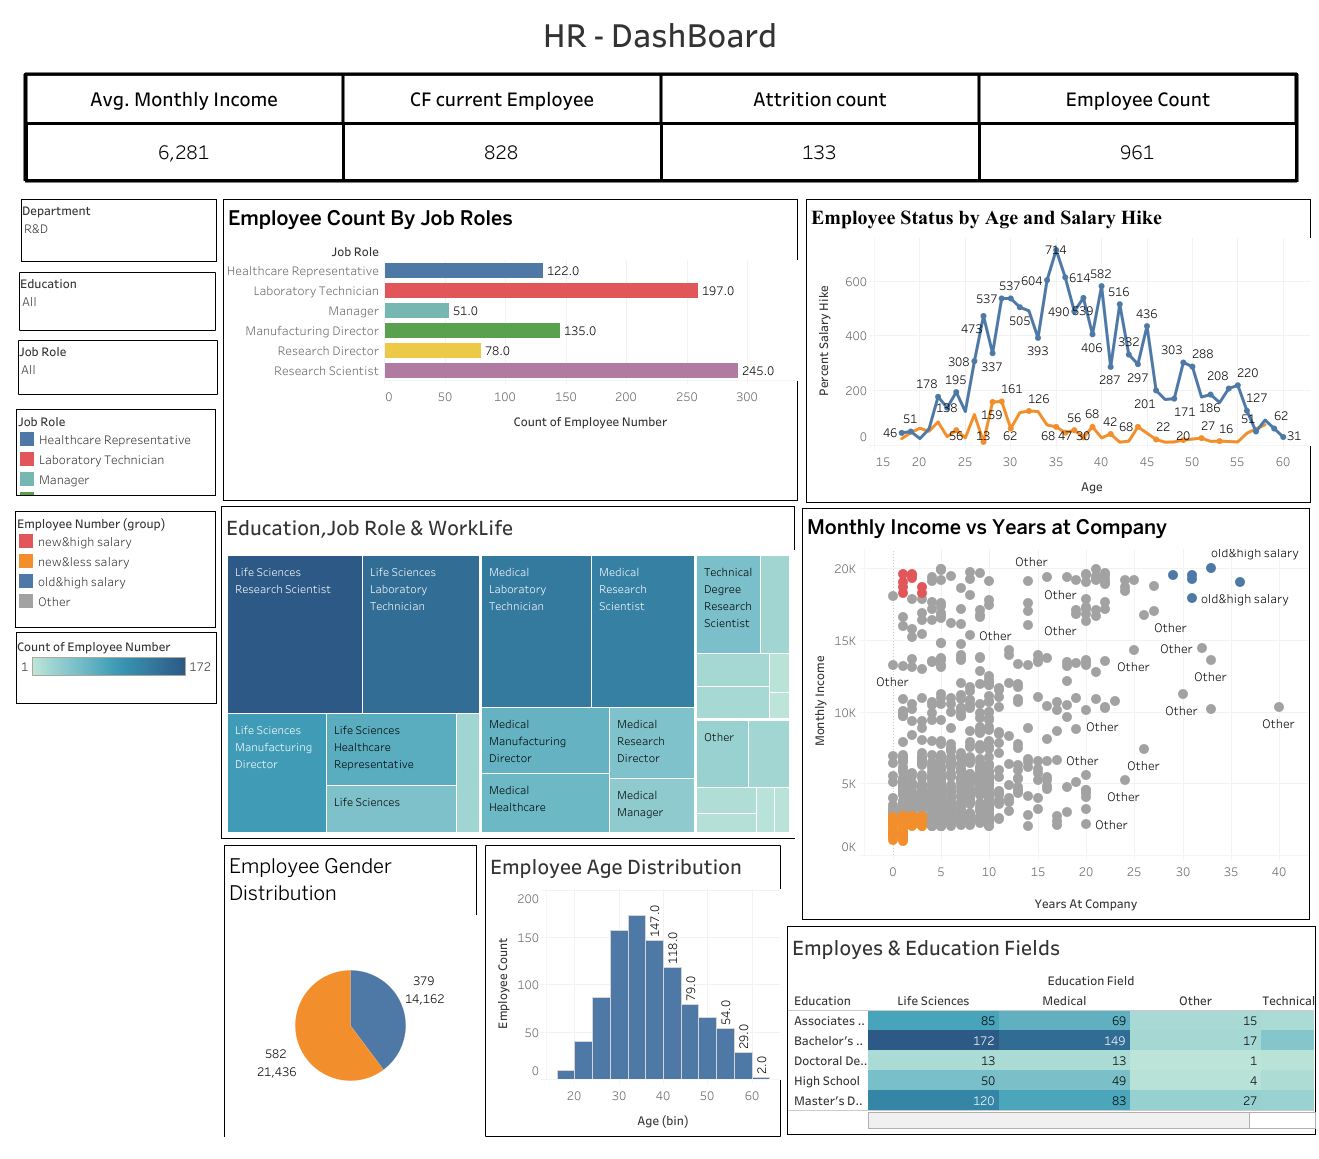

The dashboard page shown, as its layout file describes it:
{"tool":"tableau","page":{"name":"HR Dashboarf","canvas":[1320,1160],"ordinal":1},"visuals":[{"type":"title","box":[8,8,1304,63]},{"type":"worksheet","title":"Sheet 2","mark":"Automatic","rows":["Job Role"],"cols":["Employee Number"],"box":[223,199,575,302]},{"type":"worksheet","title":"Sheet 3","mark":"Line","rows":["Percent Salary Hike"],"cols":["Age"],"box":[806,199,505,304]},{"type":"filter","title":"Sheet 2","param":"[federated.0exvgdn0q3nj2n19w718709zt0zk].[none:Department:nk]","box":[15,240,196,63]},{"type":"filter","title":"Sheet 2","param":"[federated.0exvgdn0q3nj2n19w718709zt0zk].[none:Education:nk]","box":[16,310,197,59]},{"type":"filter","title":"Sheet 2","param":"[federated.0exvgdn0q3nj2n19w718709zt0zk].[none:Job Role:nk]","box":[15,375,200,55]},{"type":"legend","title":"Sheet 2","param":"[federated.0exvgdn0q3nj2n19w718709zt0zk].[none:Job Role:nk]","box":[15,437,200,87]},{"type":"worksheet","title":"Sheet 5","mark":"Automatic","box":[221,506,574,333]},{"type":"worksheet","title":"Sheet 4","mark":"Circle","rows":["Monthly Income"],"cols":["Years At Company"],"box":[802,508,508,412]},{"type":"legend","title":"Sheet 4","param":"[federated.0exvgdn0q3nj2n19w718709zt0zk].[Employee Number (group)]","box":[15,532,201,117]},{"type":"legend","title":"Sheet 6","param":"[federated.0exvgdn0q3nj2n19w718709zt0zk].[cnt:Employee Number:qk]","box":[15,655,201,72]},{"type":"worksheet","title":"Sheet 1","mark":"Pie","box":[224,845,253,272]},{"type":"worksheet","title":"Sheet 8","mark":"Automatic","rows":["Employee Count"],"cols":["Age (bin)"],"box":[485,845,296,276]},{"type":"worksheet","title":"Sheet 6","mark":"Square","rows":["Education"],"cols":["Education Field"],"box":[787,926,529,209]}]}

Visuals, with their boxes in screenshot pixels (x1, y1, x2, y2), scaled from the page's 1320x1160 canvas onto the 1319x1159 screenshot:
title: crop(8, 8, 1311, 71)
"Sheet 2" worksheet: crop(223, 199, 797, 501)
"Sheet 3" worksheet (Line marks): crop(805, 199, 1310, 503)
"Sheet 2" filter: crop(15, 240, 211, 303)
"Sheet 2" filter: crop(16, 310, 213, 369)
"Sheet 2" filter: crop(15, 375, 215, 430)
"Sheet 2" legend: crop(15, 437, 215, 524)
"Sheet 5" worksheet: crop(221, 506, 794, 838)
"Sheet 4" worksheet (Circle marks): crop(801, 508, 1309, 919)
"Sheet 4" legend: crop(15, 532, 216, 648)
"Sheet 6" legend: crop(15, 654, 216, 726)
"Sheet 1" worksheet (Pie marks): crop(224, 844, 477, 1116)
"Sheet 8" worksheet: crop(485, 844, 780, 1120)
"Sheet 6" worksheet (Square marks): crop(786, 925, 1315, 1134)
